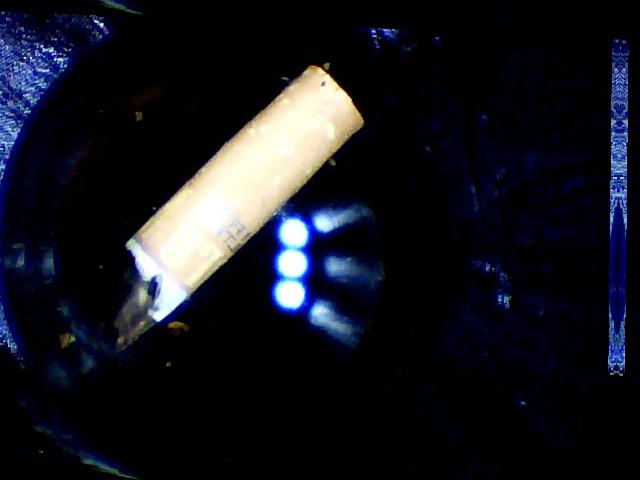megot: (81, 50, 373, 362)
